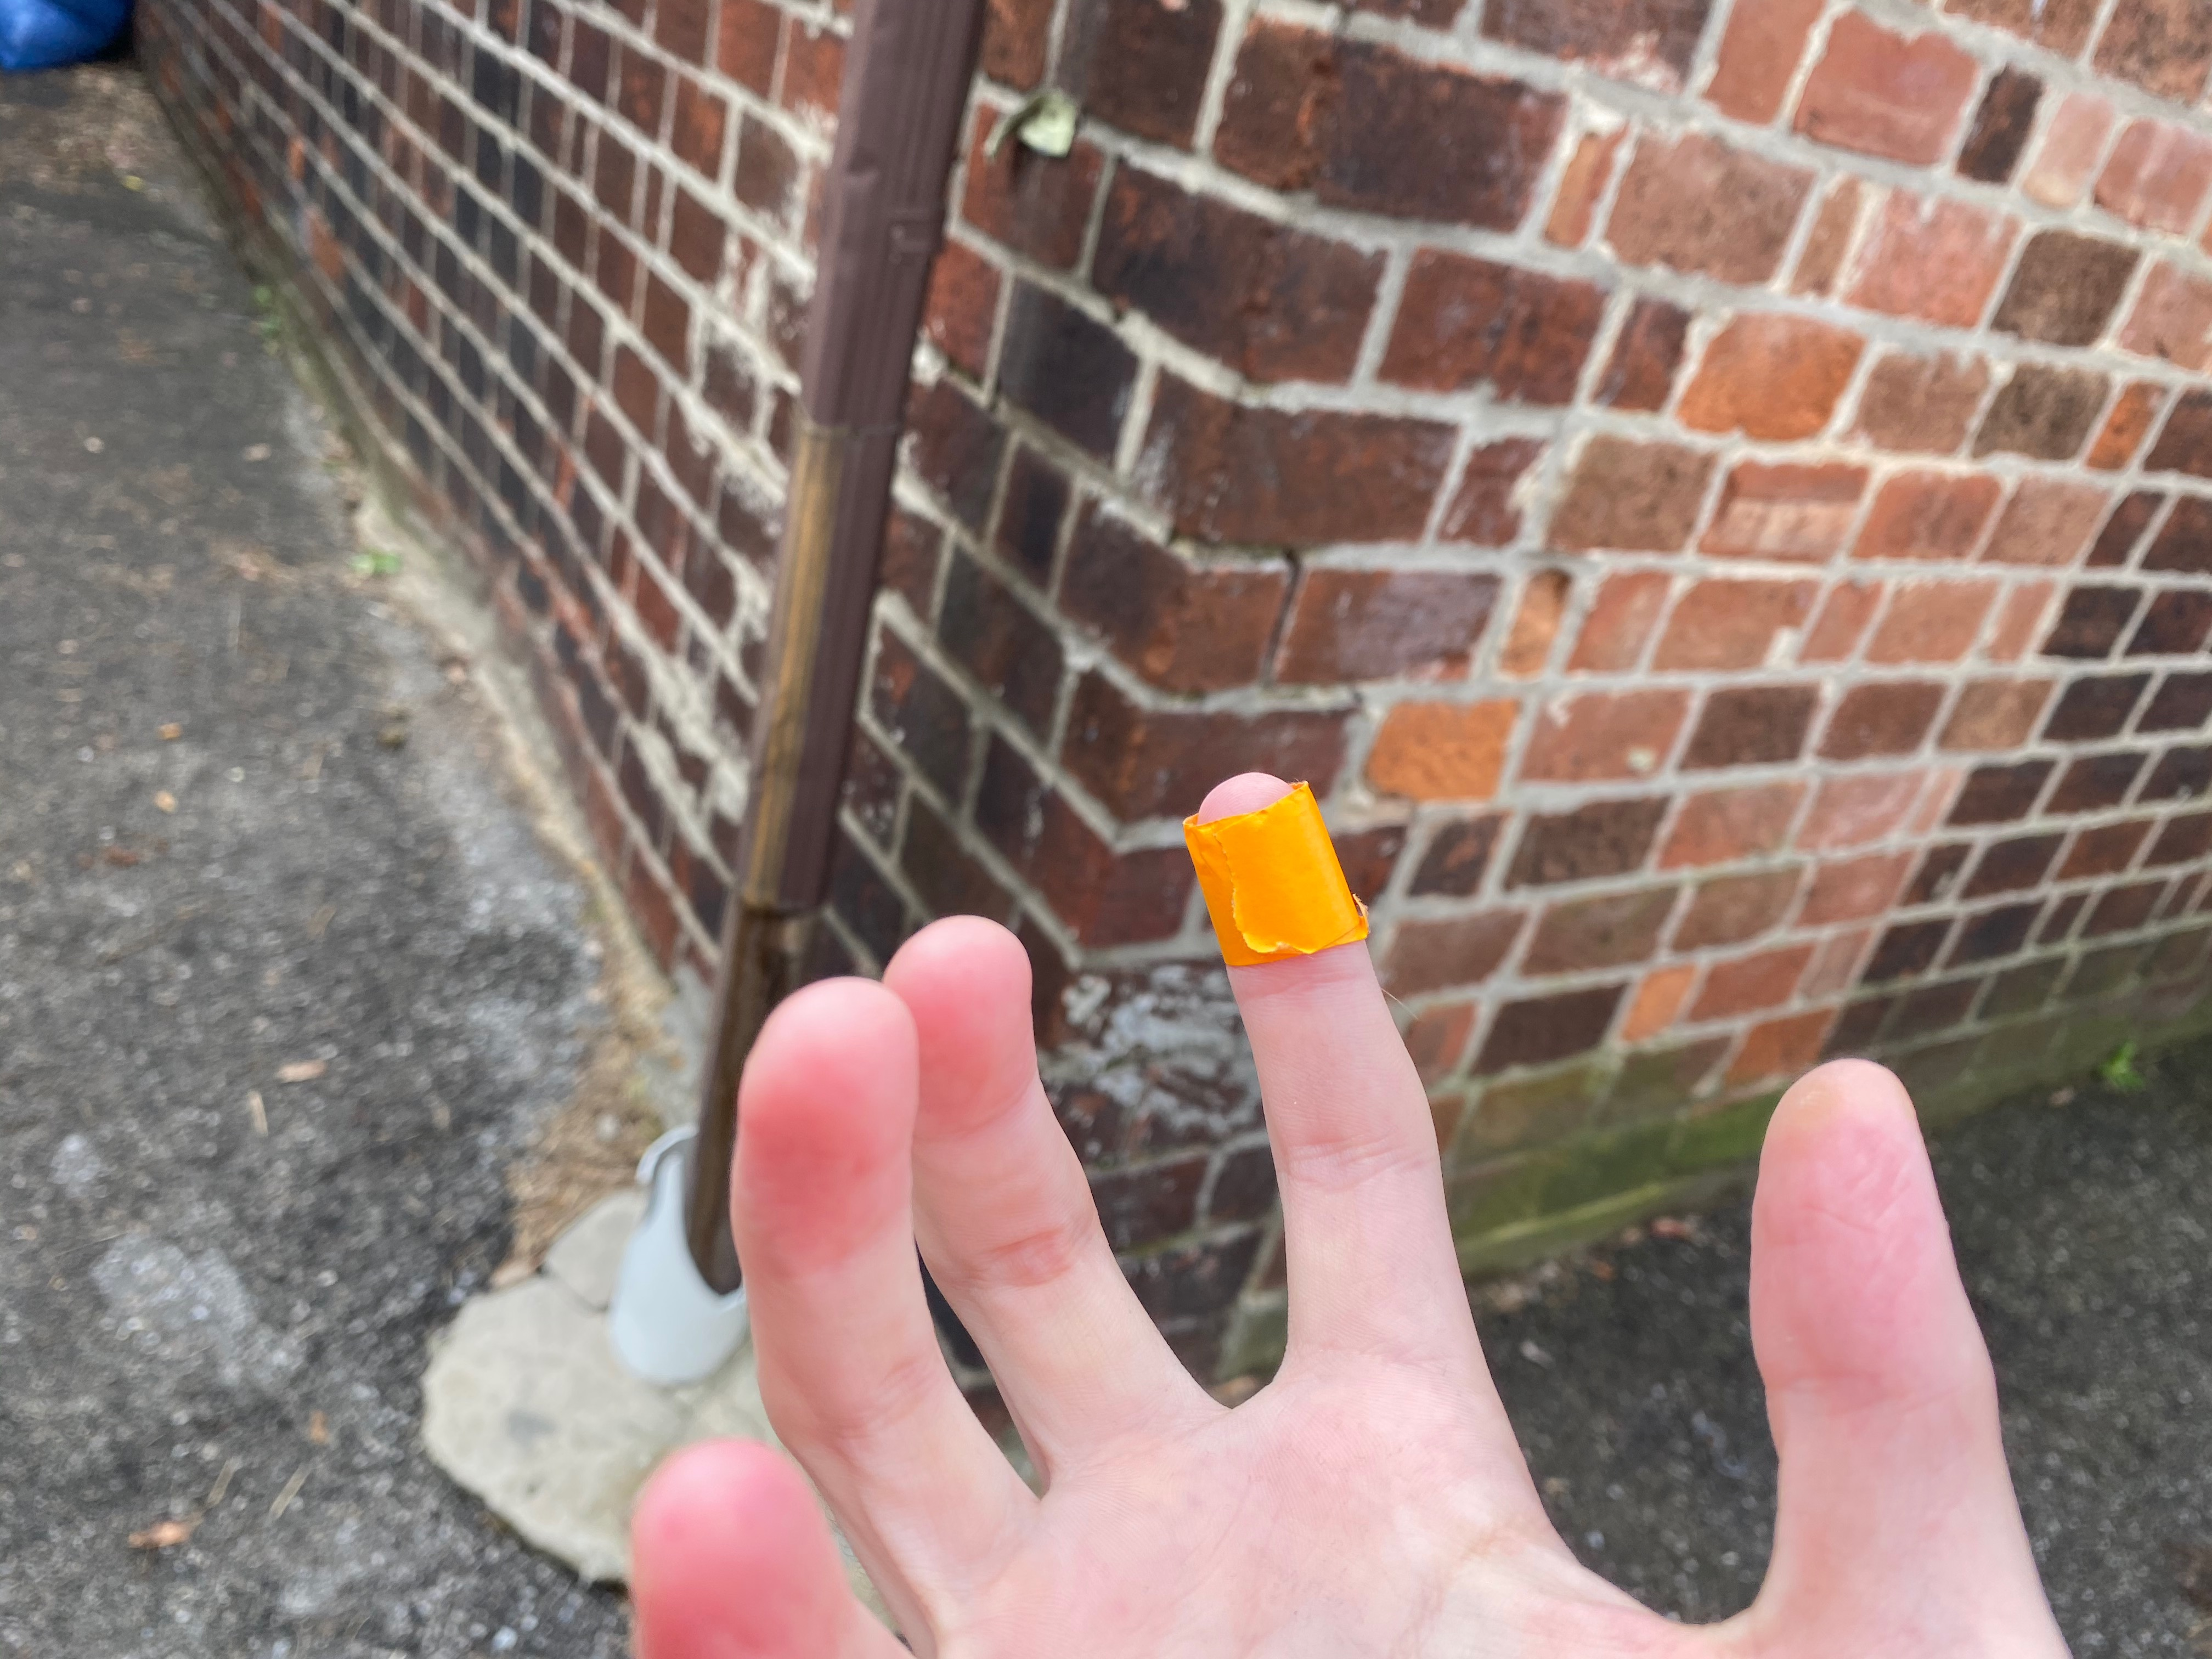fingertip: (1172, 755, 1367, 997)
